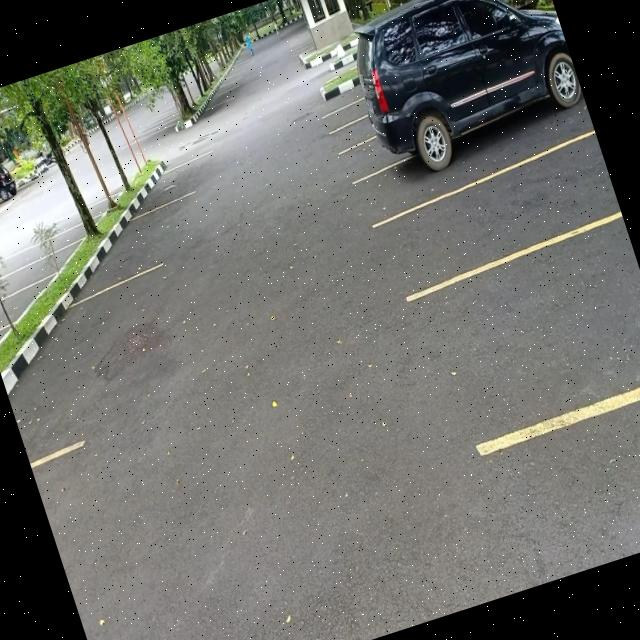empty: (409, 214, 640, 452), (384, 137, 624, 290), (26, 266, 204, 452), (97, 192, 213, 283), (133, 154, 218, 211), (0, 249, 74, 298), (17, 222, 93, 265), (0, 286, 46, 336)
occupied: (362, 23, 598, 205)
